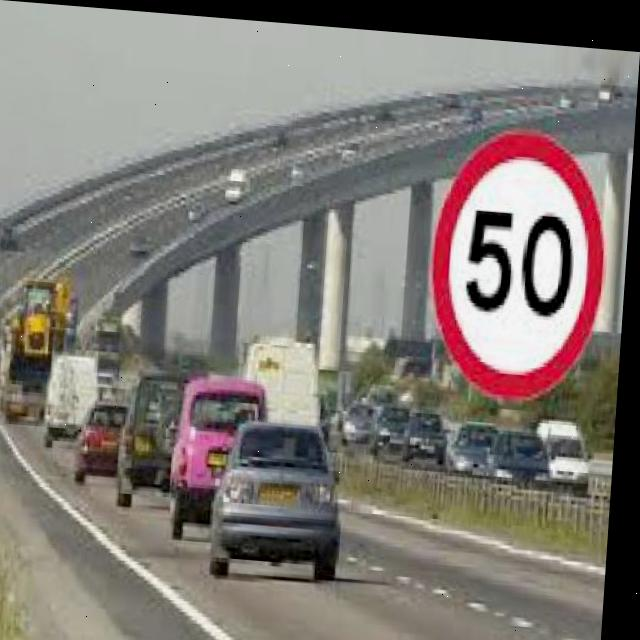Speed limit 50: (424, 113, 617, 399)
